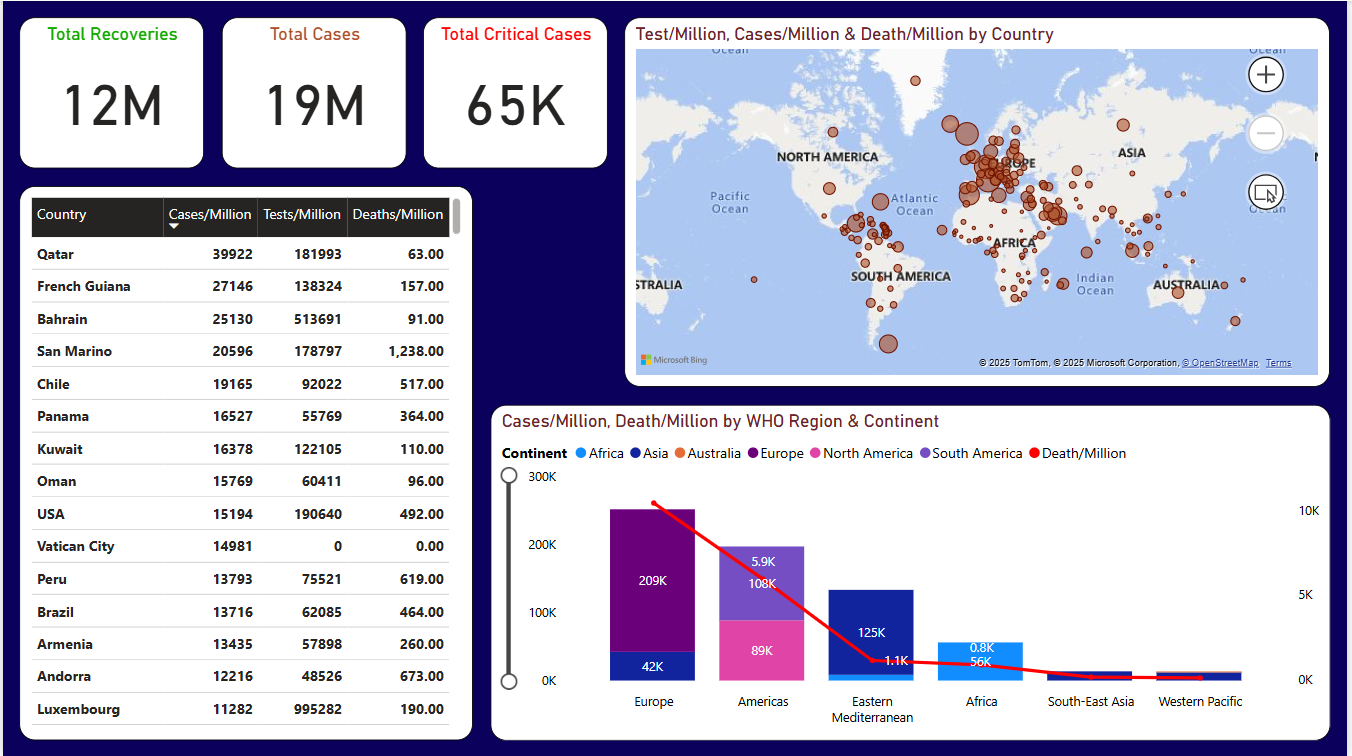

The page's visual inventory and layout, read from the dashboard file:
{"tool":"powerbi","page":{"name":"Latest Worldometer Snapshot","canvas":[1280,720],"ordinal":5},"visuals":[{"type":"card","title":"Total Recoveries","fields":{"Values":["Sum(LatestWorldometer.Total_Recoveries)"]},"box":[16,16,176,144],"z":0},{"type":"card","title":"Total Cases","fields":{"Values":["Sum(LatestWorldometer.Total_Cases)"]},"box":[208,16,176,144],"z":1000},{"type":"card","title":"Total Critical Cases","fields":{"Values":["Sum(LatestWorldometer.Critical_Cases)"]},"box":[400,16,176,144],"z":2000},{"type":"lineStackedColumnComboChart","title":"Cases/Million, Death/Million by WHO Region & Continent","fields":{"Category":["LatestWorldometer.WHO_Region"],"Series":["LatestWorldometer.Continent"],"Y":["View.Cases/Million"],"Y2":["View.Death/Million"]},"box":[464,384,800,320],"z":3000},{"type":"tableEx","fields":{"Values":["LatestWorldometer.Country","LatestWorldometer.Cases/Million","LatestWorldometer.Tests/Million","LatestWorldometer.Deaths/Million"]},"box":[16,176,432,528],"z":4000},{"type":"map","title":"Test/Million, Cases/Million & Death/Million by Country","fields":{"Category":["LatestWorldometer.Country"],"Size":["View.Test/Million"]},"box":[592,16,672,352],"z":5000}]}

Visuals, with their boxes in screenshot pixels (x1, y1, x2, y2), scaled from the page's 1280x720 canvas onto the 1352x756 screenshot:
"Total Recoveries" card: rect(17, 17, 203, 168)
"Total Cases" card: rect(220, 17, 406, 168)
"Total Critical Cases" card: rect(422, 17, 608, 168)
"Cases/Million, Death/Million by WHO Region & Continent" lineStackedColumnComboChart: rect(490, 403, 1335, 739)
tableEx - LatestWorldometer.Country x LatestWorldometer.Cases/Million: rect(17, 185, 473, 739)
"Test/Million, Cases/Million & Death/Million by Country" map: rect(625, 17, 1335, 386)
